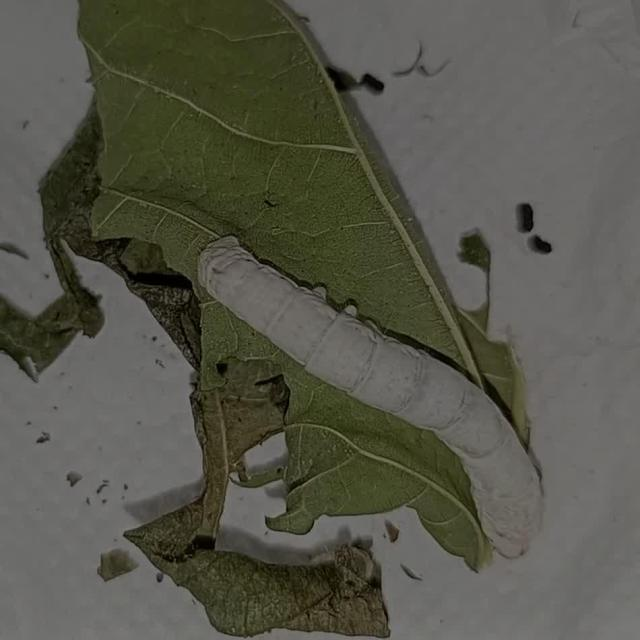Healthy: (180, 209, 588, 590)
